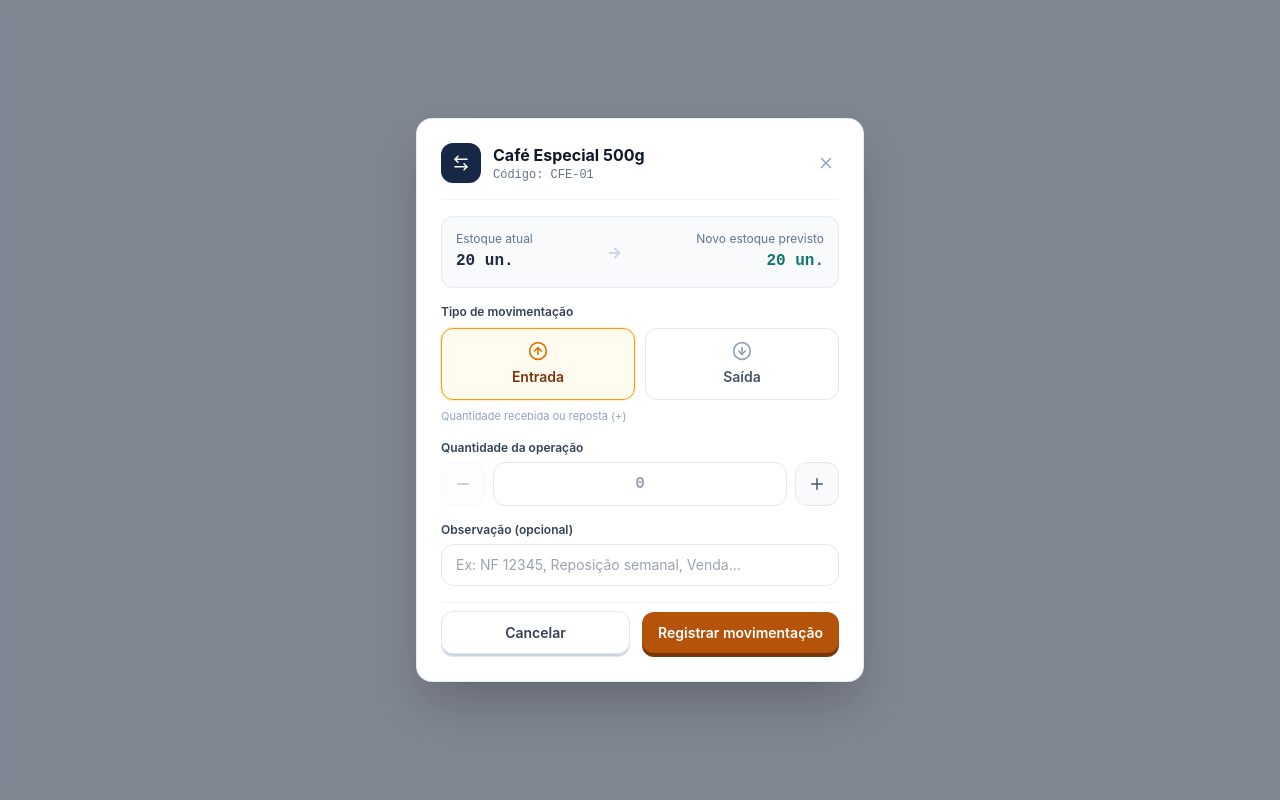
MovementModal › calcula previsão de estoque para entrada
Type "10" into the field with placeholder "0". click: [640, 484]
box: top-left (493, 462), bottom-right (787, 506)
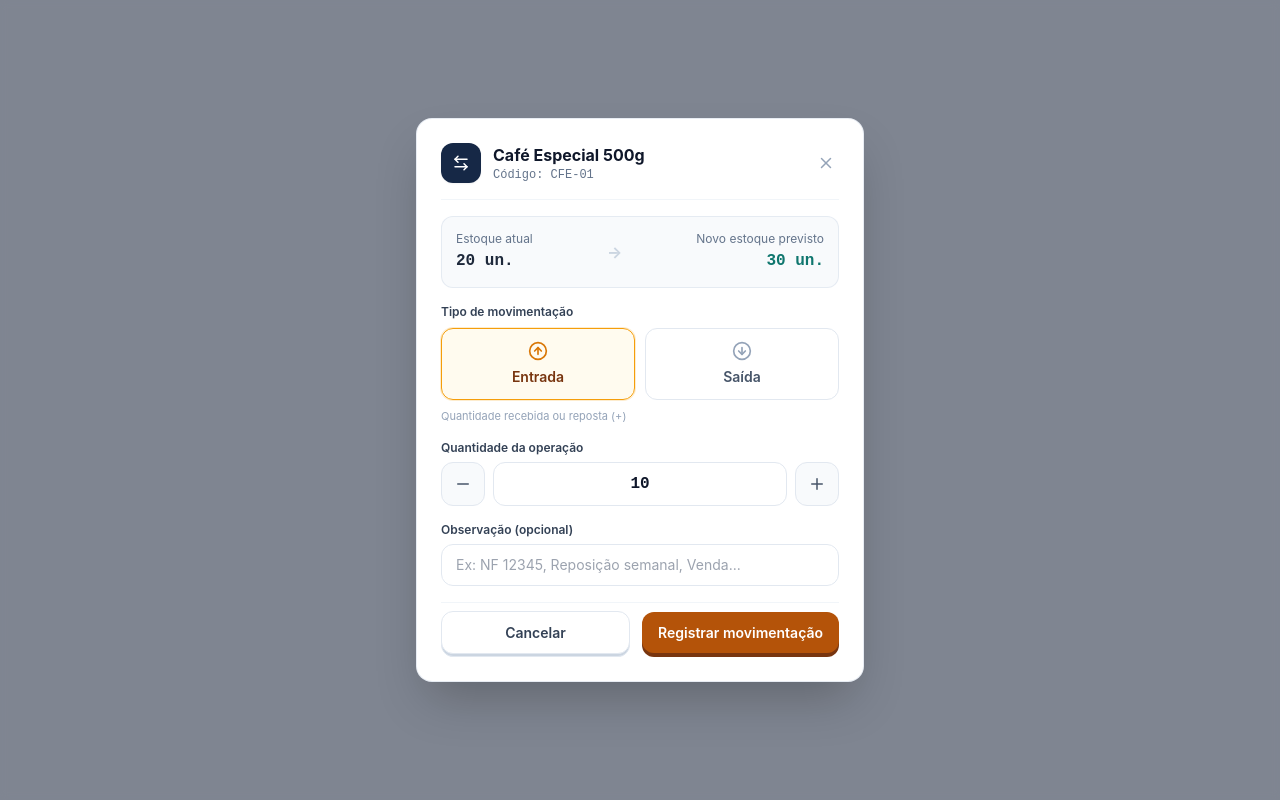
Expected: the text "30 un." is shown, top-left (766, 252), bottom-right (824, 270)
